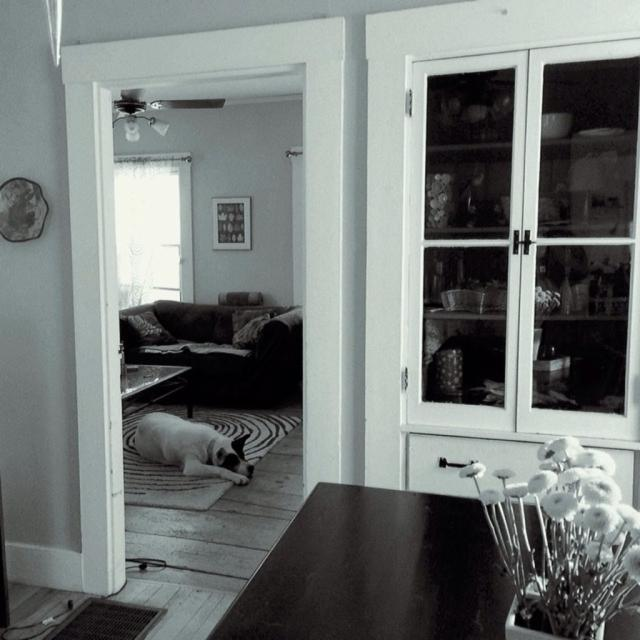Bulb: (113, 86, 224, 145)
